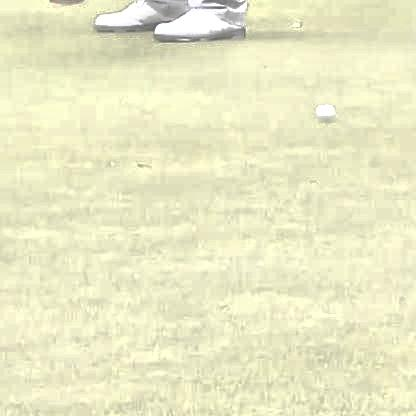golfball: (315, 103, 334, 121)
